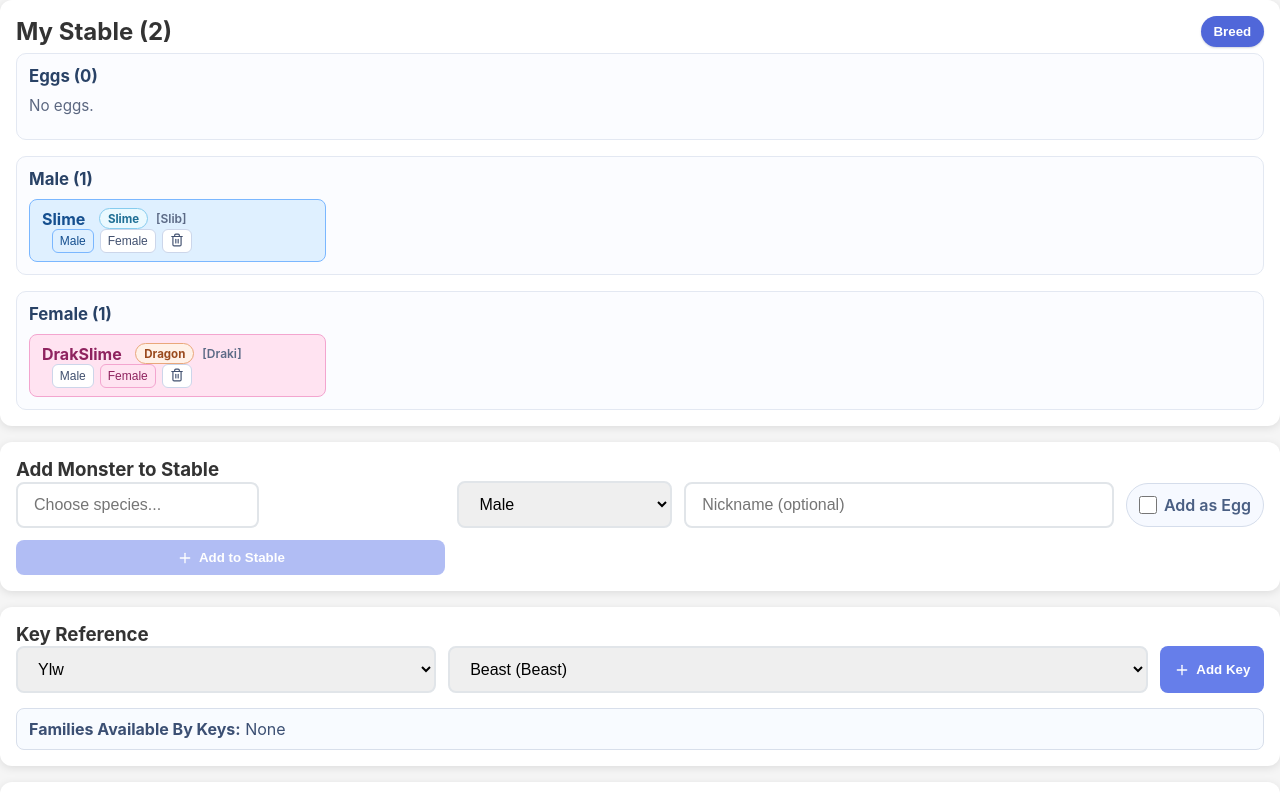
it: MonsterList key family highlighting › renders breed panel with grouped form and secondary cancel action styling
Click the button "Breed". click: (1232, 32)
box: [1201, 16, 1264, 47]
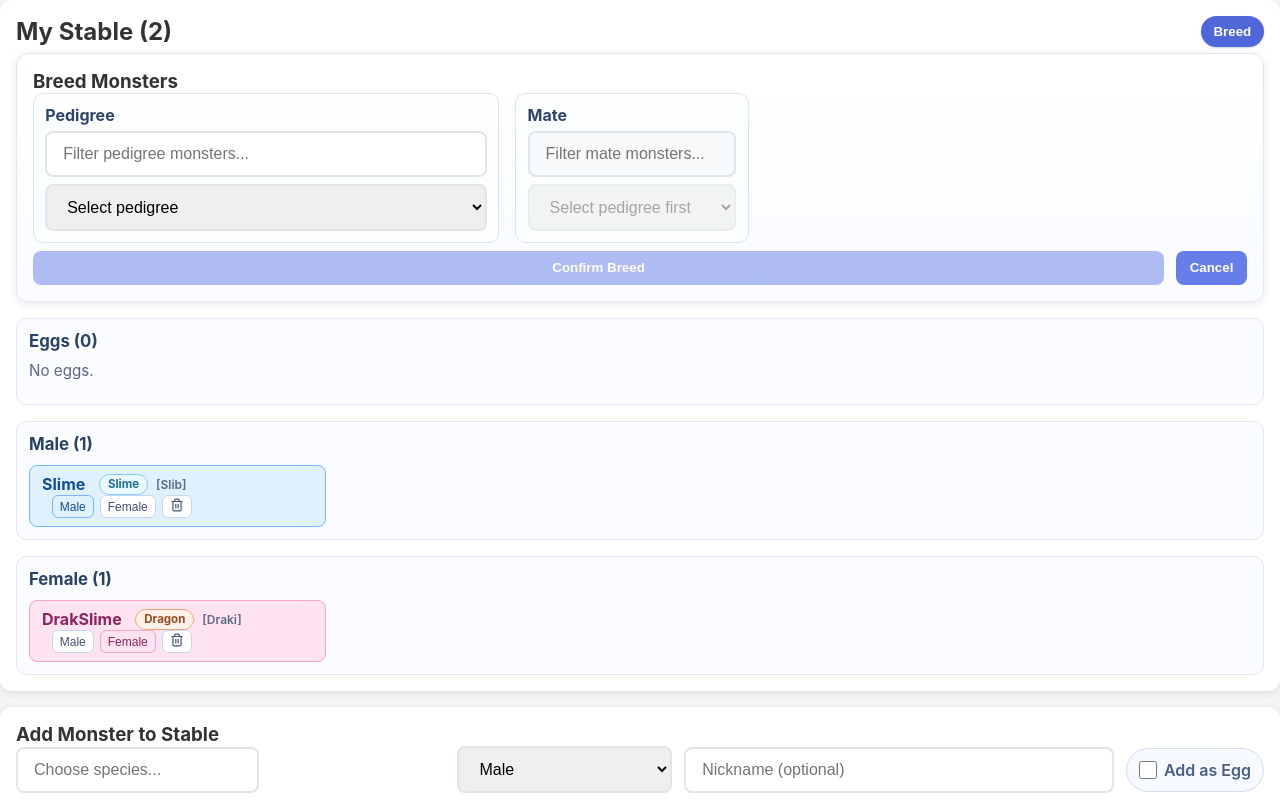
Now the element with test id "breed-form-grid" is shown, box [33, 93, 749, 243]
Now the button "Confirm Breed" is shown, box [33, 251, 1164, 285]
